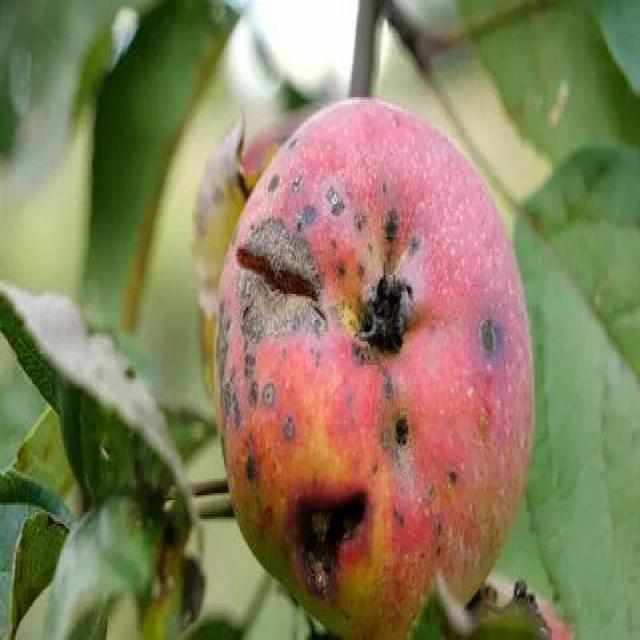Apple: (205, 90, 543, 640)
